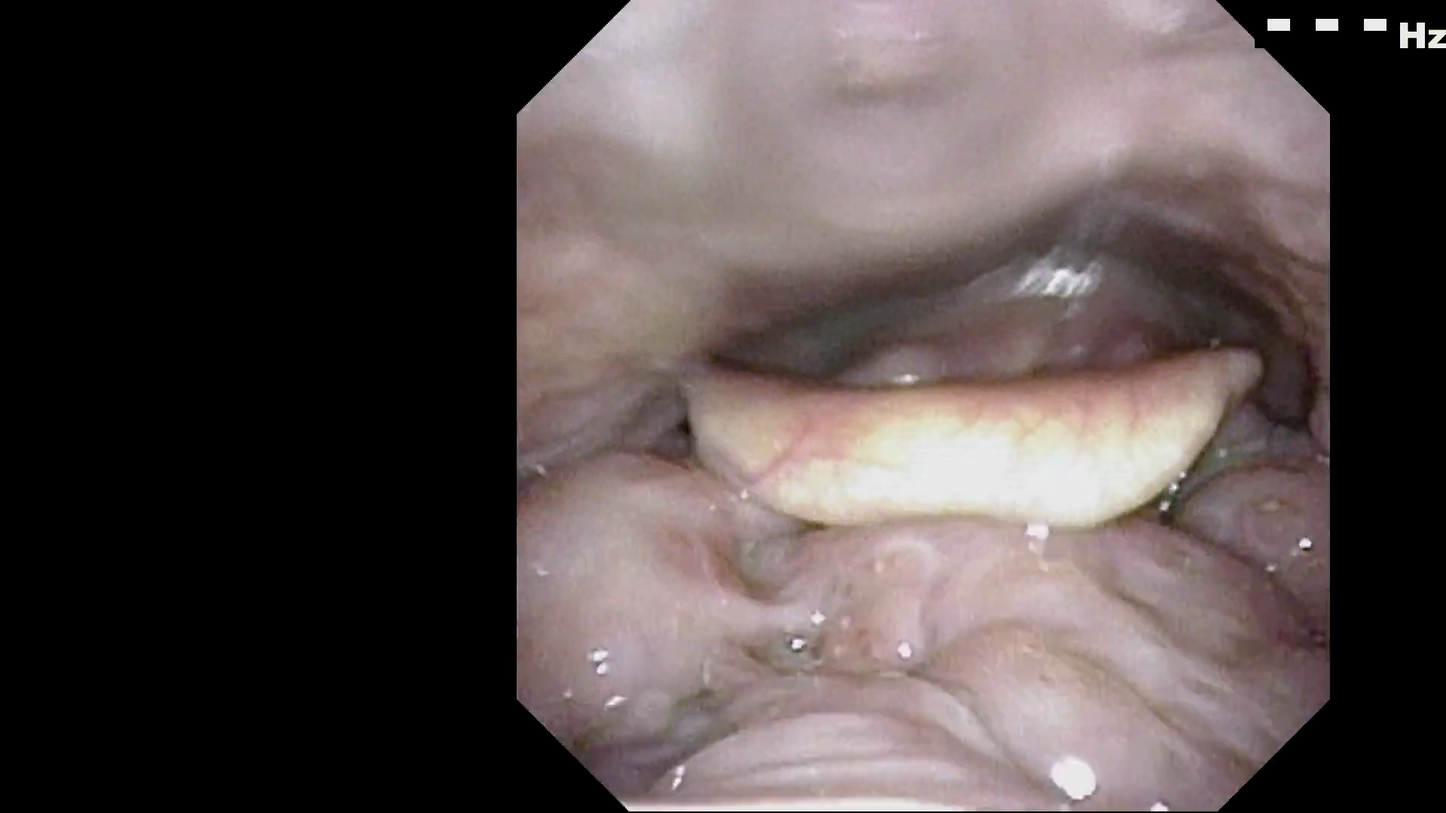epiglottis: (677, 349, 1275, 544)
trachea: (935, 386, 1089, 467)
